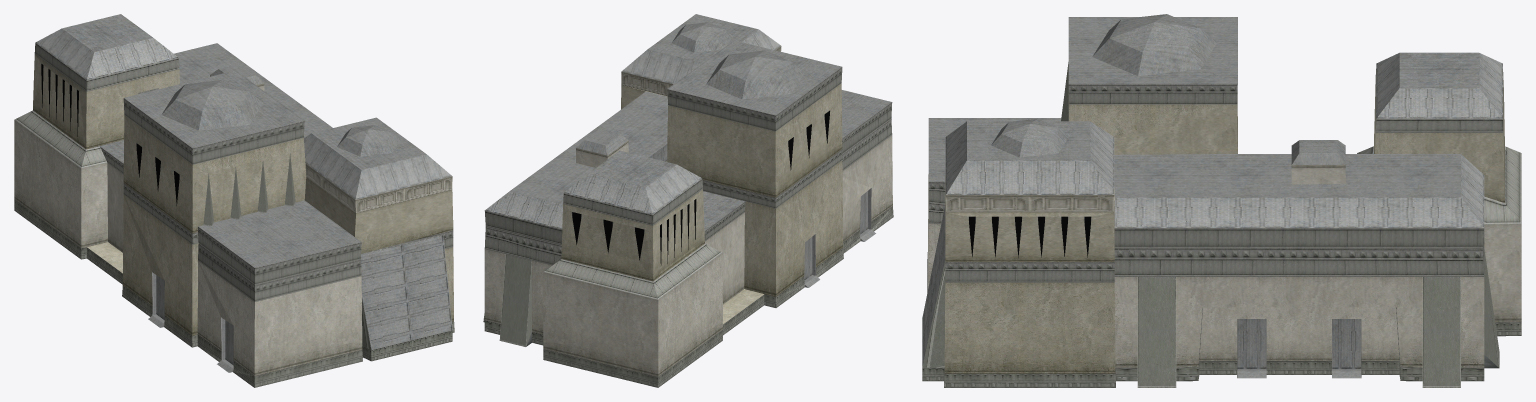
The model's file is thm_corl_imprv_historic_32x16_s01_l2.fbx.
3 renders of one model, left to right at view 1: azimuth 30°, elevation 25°; view 2: azimuth 150°, elevation 25°; view 3: azimuth 270°, elevation 25°, orthographic. The views are drawn at different scales.
Parts seen in each view (by area): view 1: mesh_node; view 2: mesh_node; view 3: mesh_node.
Boxes of the visible parts, left/top/right/bottom form: mesh_node: left=14, top=14, right=454, bottom=387; mesh_node: left=483, top=14, right=893, bottom=387; mesh_node: left=922, top=14, right=1521, bottom=387.
Bounding box in the file's own units: 15.96 × 15.6 × 31.15.
